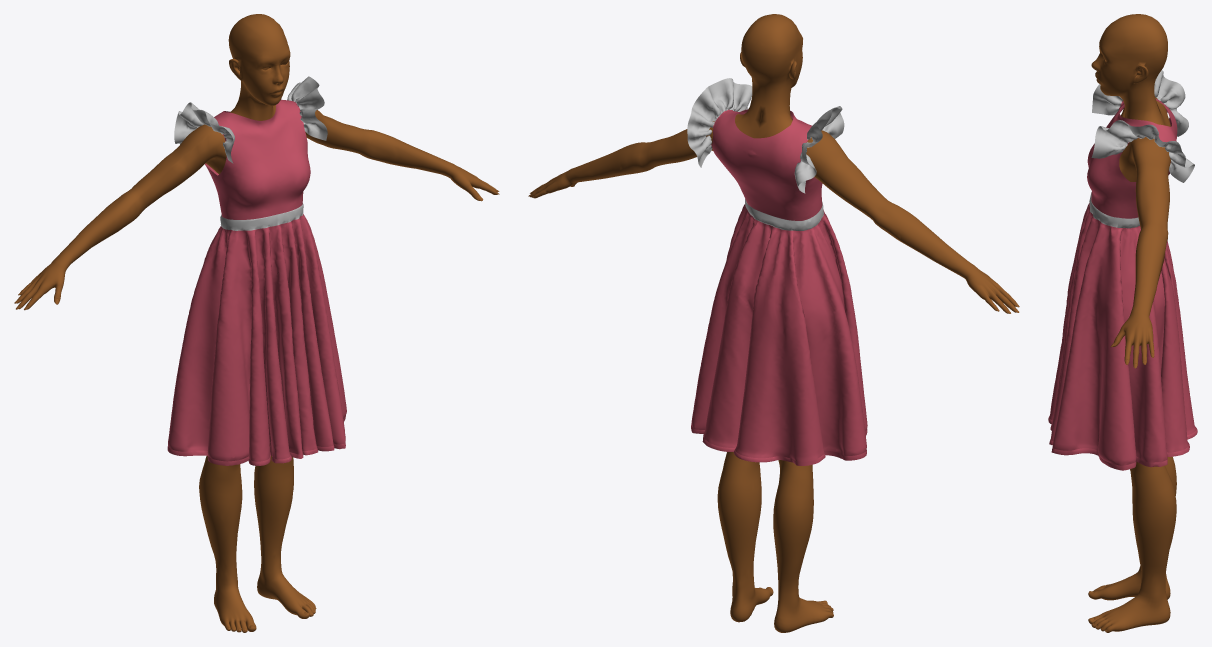
File: dress4.glb
3 renders of one model, left to right at view 1: azimuth 30°, elevation 25°; view 2: azimuth 150°, elevation 25°; view 3: azimuth 270°, elevation 25°, orthographic.
Parts seen in each view (by area): view 1: PinkDrees#14 (OBJ), Body; view 2: PinkDrees#14 (OBJ), Body; view 3: PinkDrees#14 (OBJ), Body.
Part boxes in pixels (x1=…): PinkDrees#14 (OBJ): x1=167, y1=76, x2=346, y2=465; Body: x1=17, y1=14, x2=498, y2=632; PinkDrees#14 (OBJ): x1=687, y1=78, x2=867, y2=465; Body: x1=529, y1=14, x2=1016, y2=632; PinkDrees#14 (OBJ): x1=1048, y1=70, x2=1197, y2=470; Body: x1=1088, y1=14, x2=1176, y2=632.
Bounding box in the file's own units: 1.58 × 1.85 × 0.4187.
